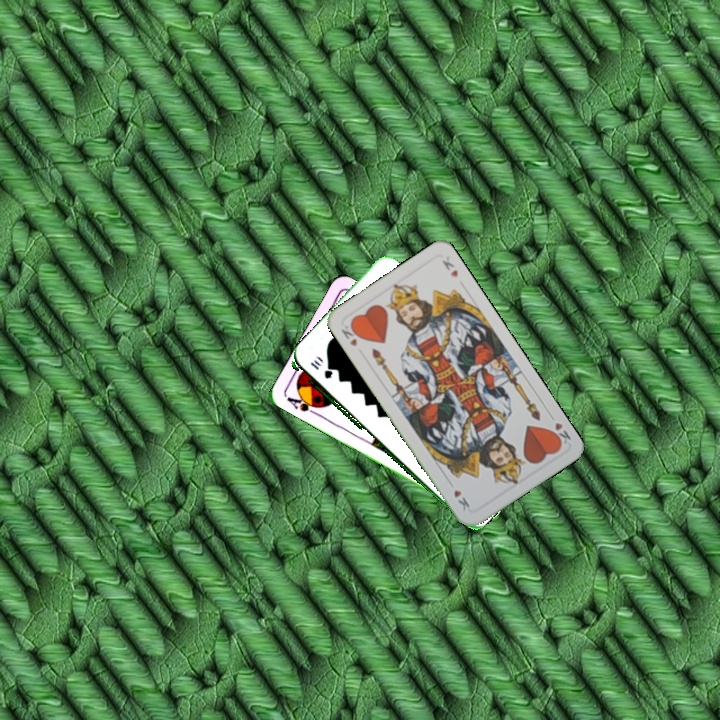G10: (306, 355, 334, 382)
HK: (545, 409, 573, 449), (337, 319, 363, 349)
SA: (282, 390, 323, 418)
